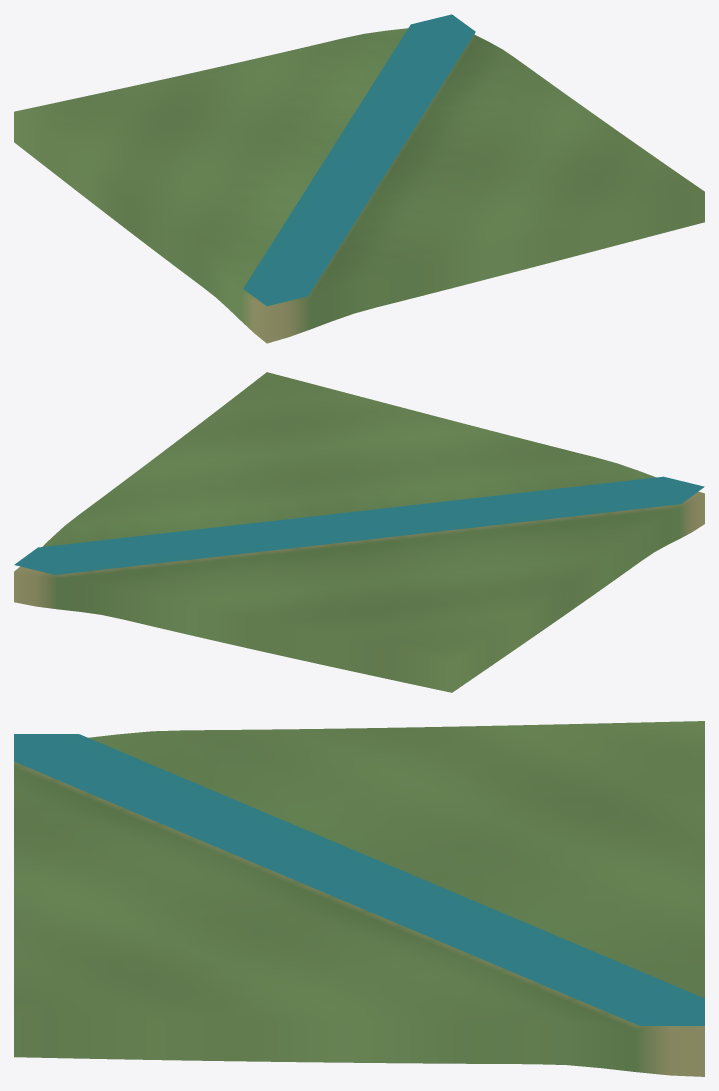
The picture shows the model from 3 angles, top to bottom: view 1: azimuth 30°, elevation 25°; view 2: azimuth 150°, elevation 25°; view 3: azimuth 270°, elevation 25°; orthographic projection. The views are drawn at different scales.
Visible parts, largest first — view 1: terrain, scenery; view 2: terrain, scenery; view 3: terrain, scenery.
Part boxes in pixels (box(x1,y1,x2,y2)): terrain: box(14, 28, 704, 343); scenery: box(243, 14, 475, 306); terrain: box(14, 372, 704, 692); scenery: box(14, 476, 704, 574); terrain: box(14, 721, 704, 1076); scenery: box(14, 734, 704, 1025).
Bounding box in the file's own units: 30 × 3.06 × 30.
